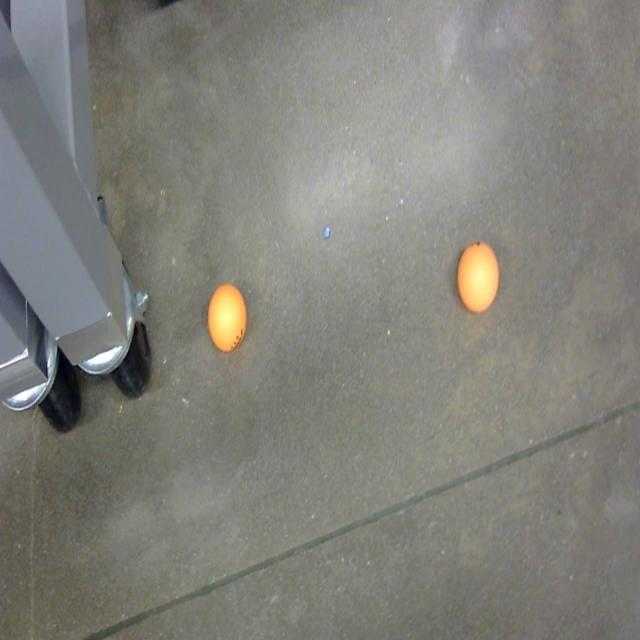ball: (456, 239, 500, 318), (206, 280, 250, 356)
